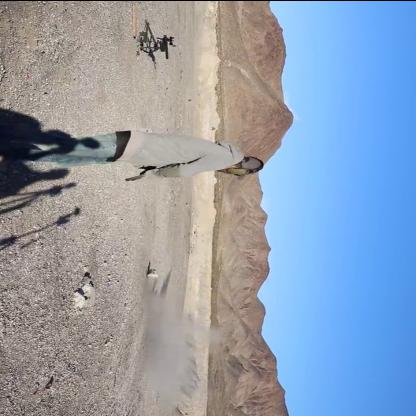long weapon: (136, 24, 181, 67)
